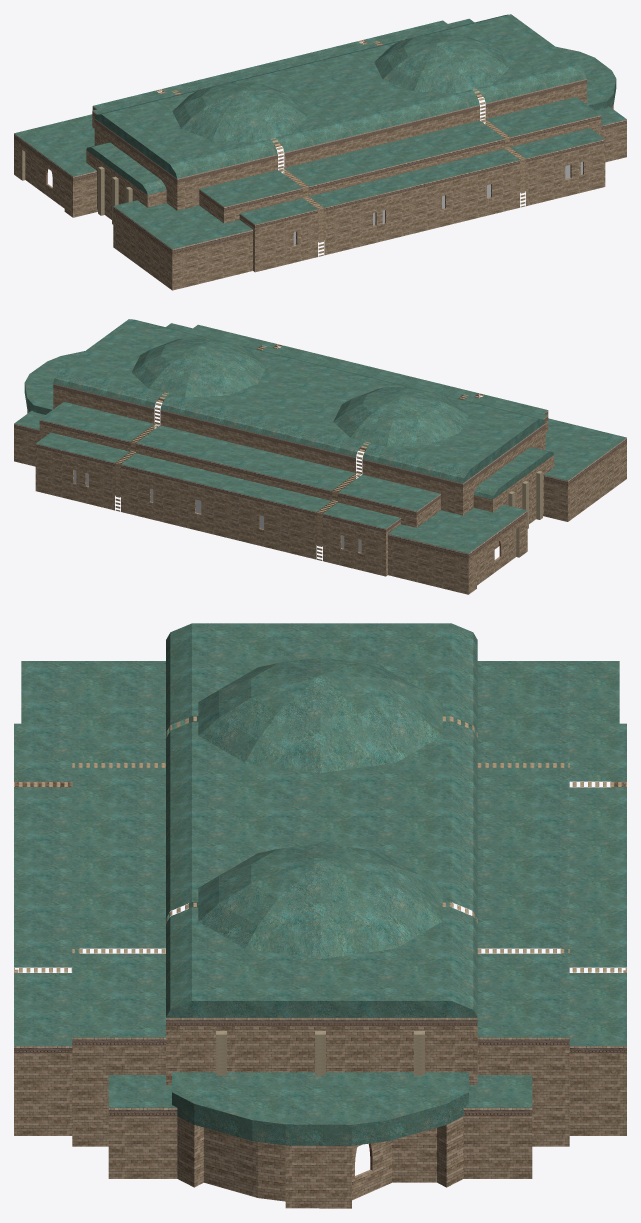
Rendered from thm_nboo_cantina_r0_mesh_l1.fbx.
The picture shows the model from 3 angles, top to bottom: view 1: azimuth 30°, elevation 25°; view 2: azimuth 150°, elevation 25°; view 3: azimuth 270°, elevation 25°; orthographic projection. The views are drawn at different scales.
Parts seen in each view (by area): view 1: mesh_node; view 2: mesh_node; view 3: mesh_node.
Boxes of the visible parts, left/top/right/bottom form: mesh_node: left=14, top=14, right=626, bottom=290; mesh_node: left=14, top=319, right=626, bottom=594; mesh_node: left=14, top=623, right=626, bottom=1208.
Size of the model in its own units: 101 by 19.97 by 55.66.
